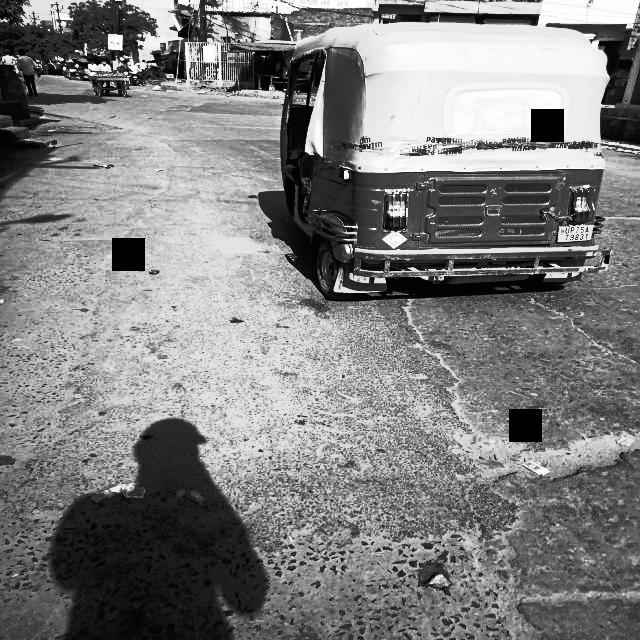Auto-Rickshaw: (272, 22, 617, 306)
